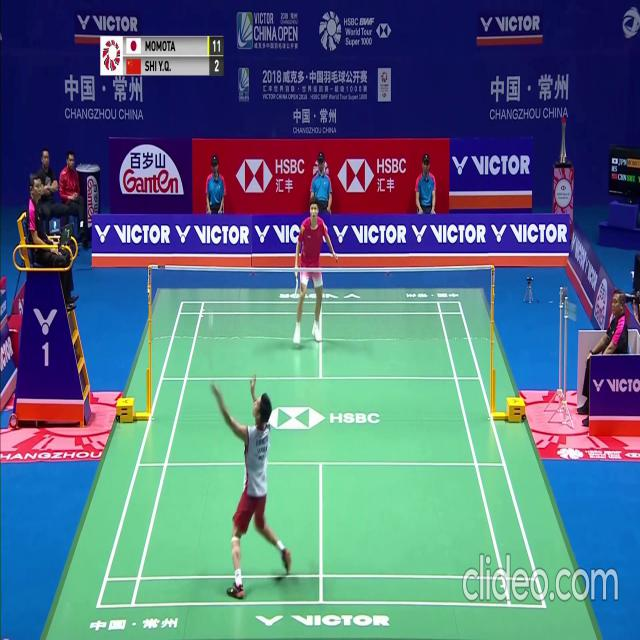Shuttlecock: (208, 319, 213, 326)
